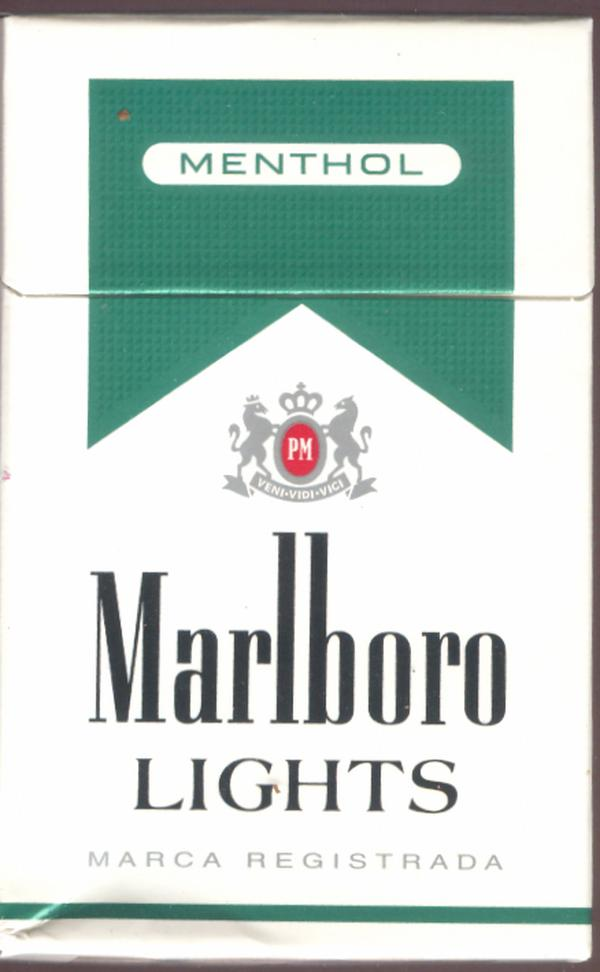marlboro_mentol: (3, 25, 590, 966)
